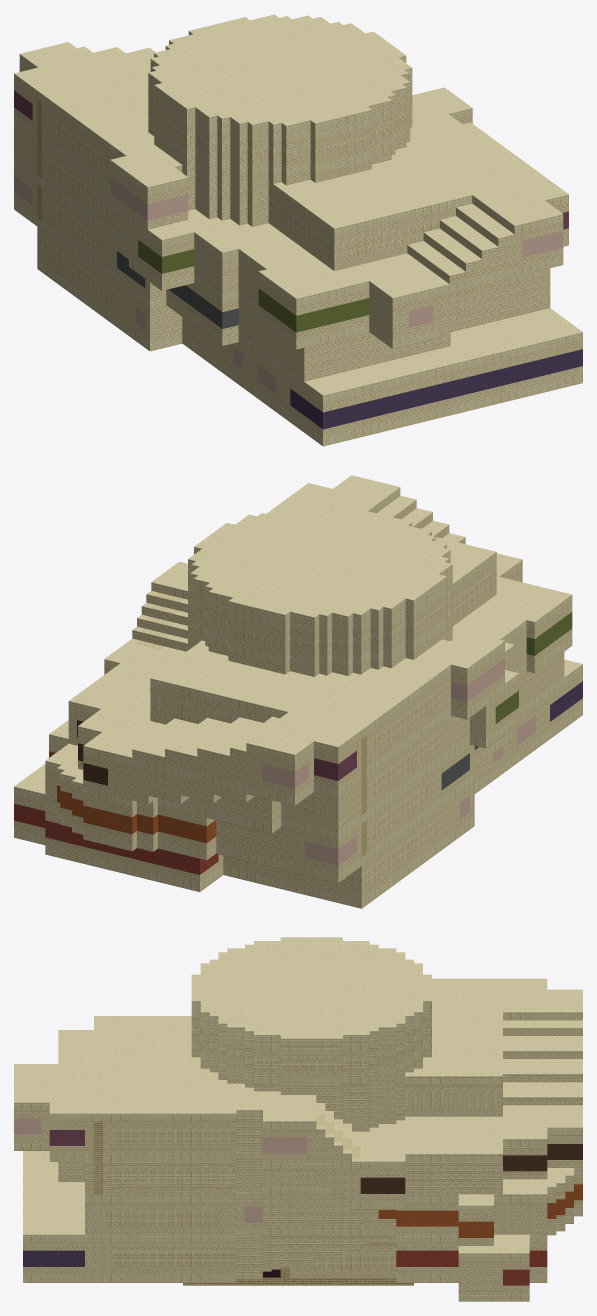
Rendered from minecraft.obj.
The picture shows the model from 3 angles, top to bottom: view 1: azimuth 30°, elevation 25°; view 2: azimuth 150°, elevation 25°; view 3: azimuth 270°, elevation 25°; orthographic projection. The views are drawn at different scales.
Bounding box in the file's own units: 430 × 330 × 640.
